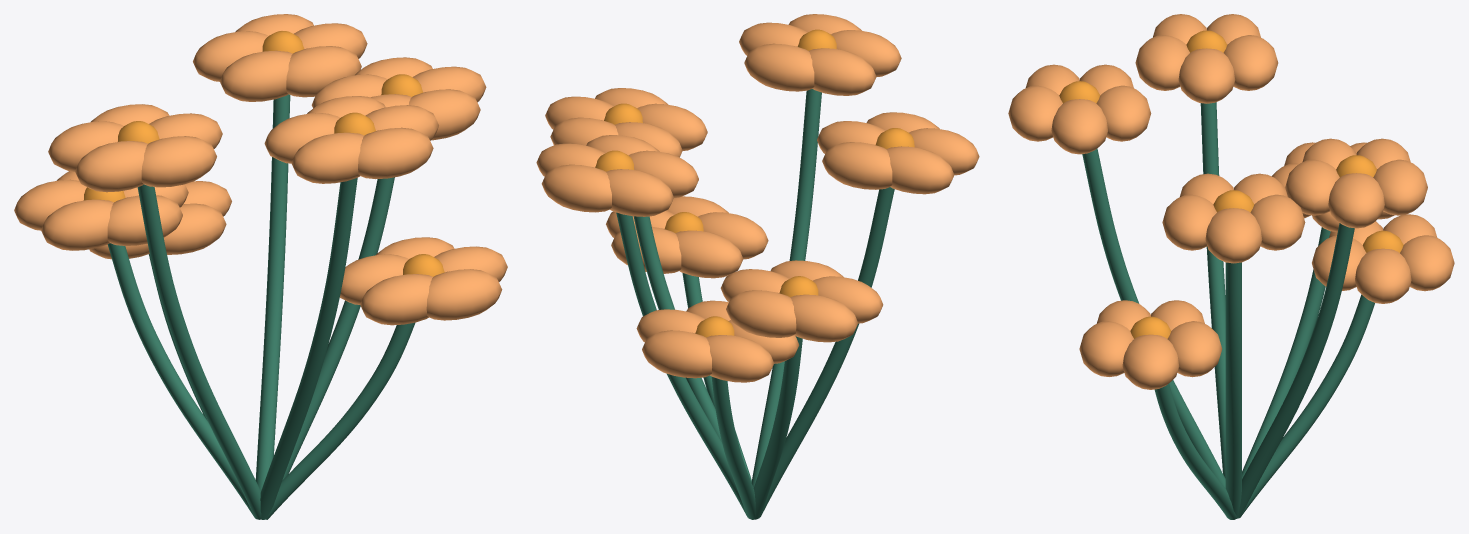
File: oasis_blossom.glb
3 renders of one model, left to right at view 1: azimuth 30°, elevation 25°; view 2: azimuth 150°, elevation 25°; view 3: azimuth 270°, elevation 25°, orthographic. The views are drawn at different scales.
Visible parts, largest first — view 1: Thick petal, Curved flower stem, Flower pollen; view 2: Thick petal, Curved flower stem, Flower pollen; view 3: Thick petal, Curved flower stem, Flower pollen.
Boxes of the visible parts, x1,y1,x2,y2 form: Thick petal: [14, 14, 507, 325]; Curved flower stem: [107, 94, 415, 519]; Flower pollen: [83, 31, 444, 276]; Thick petal: [536, 14, 979, 382]; Curved flower stem: [616, 89, 894, 519]; Flower pollen: [595, 29, 914, 337]; Thick petal: [1008, 14, 1454, 389]; Curved flower stem: [1082, 102, 1374, 519]; Flower pollen: [1059, 30, 1403, 338].
Bounding box in the file's own units: 0.7746 × 0.7854 × 0.7215.
